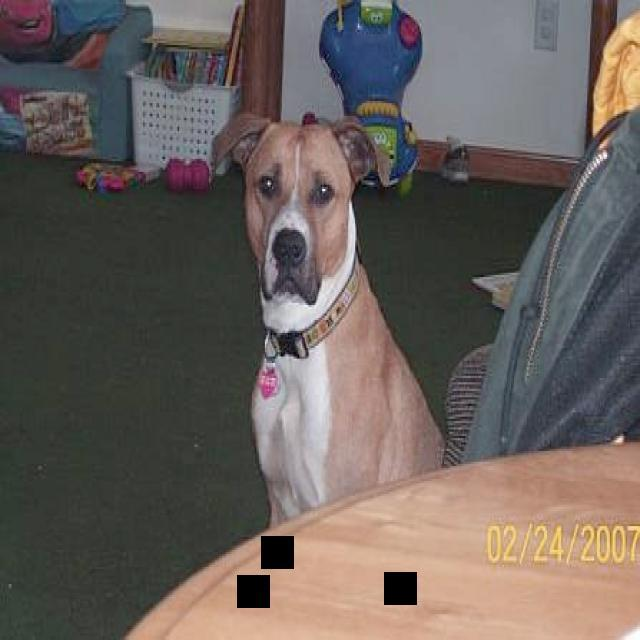adult_dog: (206, 113, 449, 530)
